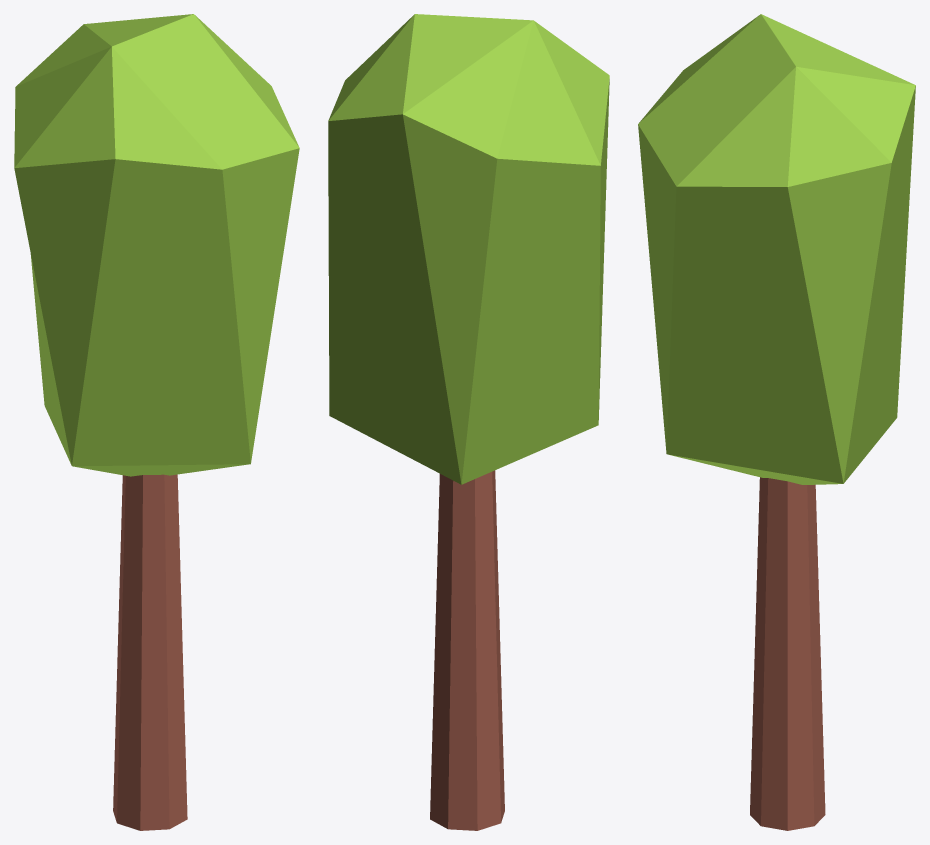
Rendered from tree_10.fbx.
3 renders of one model, left to right at view 1: azimuth 30°, elevation 25°; view 2: azimuth 150°, elevation 25°; view 3: azimuth 270°, elevation 25°, orthographic. The views are drawn at different scales.
Parts seen in each view (by area): view 1: Cylinder.040; view 2: Cylinder.040; view 3: Cylinder.040.
Part boxes in pixels (x1=…): Cylinder.040: x1=14, y1=14, x2=299, y2=830; Cylinder.040: x1=328, y1=14, x2=609, y2=830; Cylinder.040: x1=638, y1=14, x2=915, y2=830.
Size of the model in its own units: 168 by 496 by 161.
